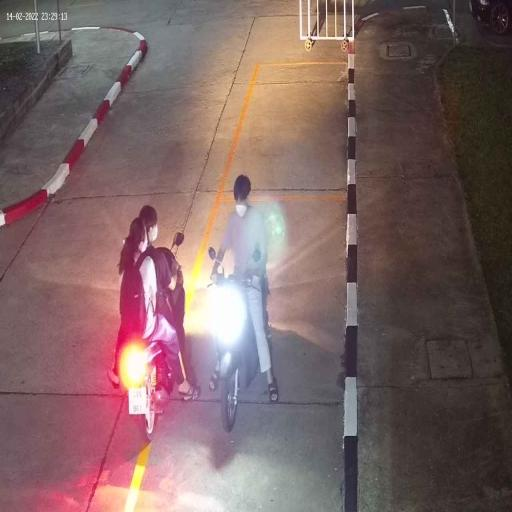motorcycle: (216, 271, 269, 434), (124, 320, 186, 442)
